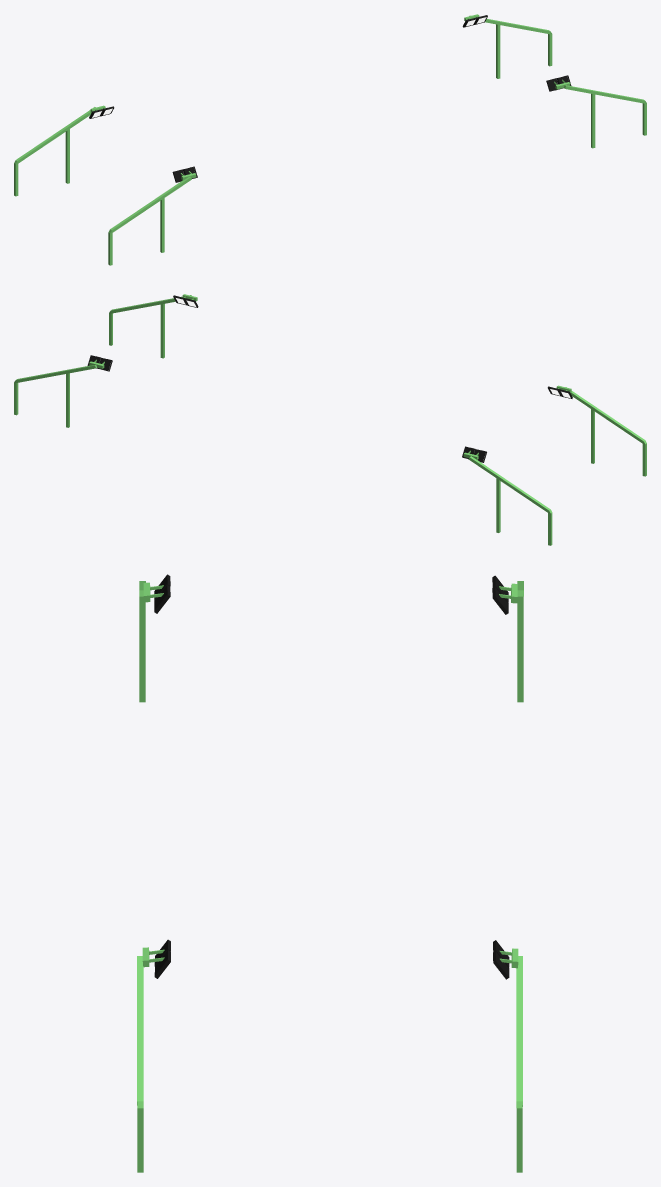
Rendered from solo_4.glb.
The picture shows the model from 3 angles, top to bottom: view 1: azimuth 30°, elevation 25°; view 2: azimuth 150°, elevation 25°; view 3: azimuth 270°, elevation 25°; orthographic projection. The views are drawn at different scales.
Parts seen in each view (by area): view 1: 4 вариант; view 2: 4 вариант; view 3: 4 вариант.
Part boxes in pixels (box(x1,y1,x2,y2)): 4 вариант: box(14, 14, 646, 265); 4 вариант: box(14, 294, 646, 545); 4 вариант: box(137, 574, 523, 1172).
Size of the model in its own units: 20.05 by 2.56 by 6.26.
